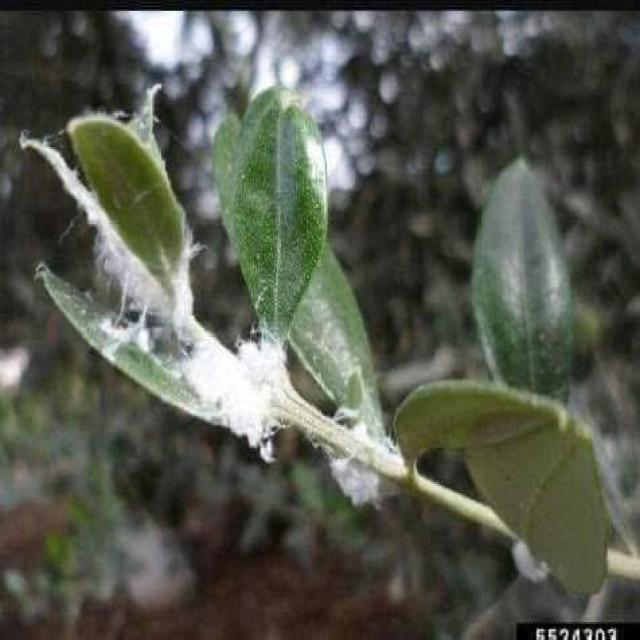Psyllid: (22, 86, 317, 459), (320, 368, 406, 509)
